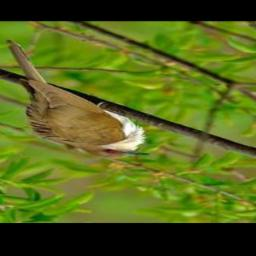Cuckoo: (1, 39, 151, 159)
